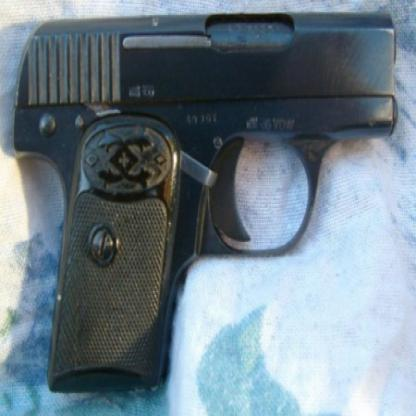Guns: (11, 8, 400, 393)
